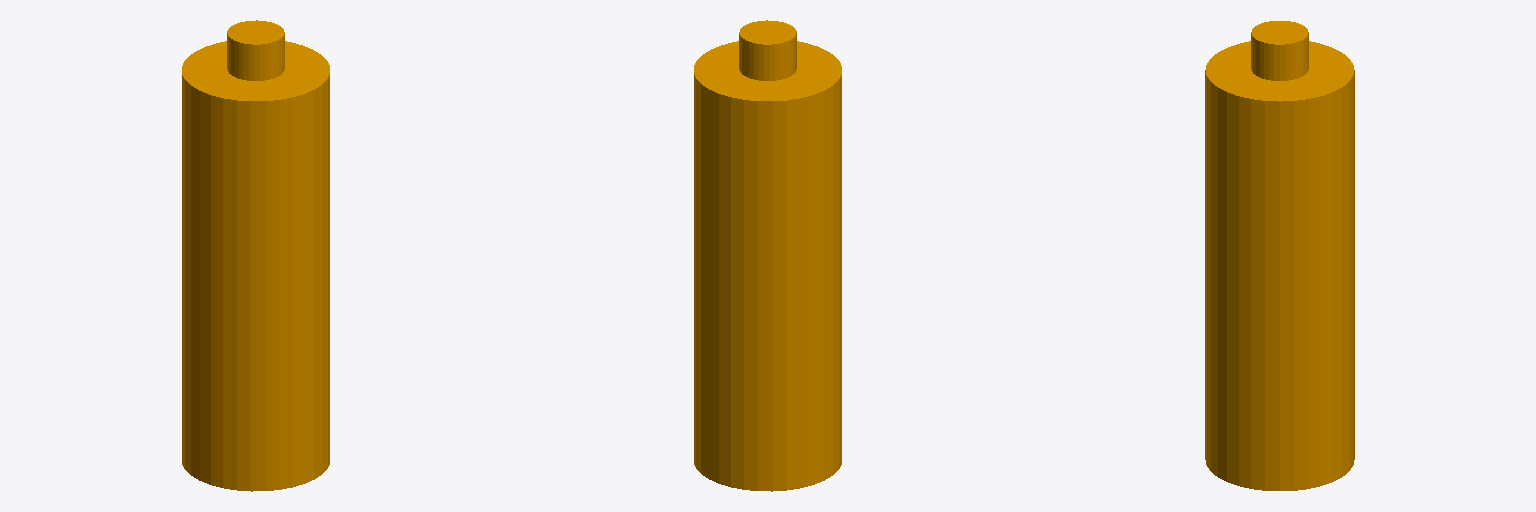
URDF robot description (cylinder):
<?xml version="1.0" ?>
<robot name="cylinder">
  <link name="baseLink">
    <contact>
      <lateral_friction value="1.0"/>
      <rolling_friction value="0.0"/>
      <contact_cfm value="0.0"/>
      <contact_erp value="1.0"/>
    </contact>
    <inertial>
      <origin rpy="0 0 0" xyz="0 0 0.1025"/>
       <mass value="0.380"/>
       <inertia ixx="1" ixy="0" ixz="0" iyy="1" iyz="0" izz="1"/>
    </inertial>
    <visual>
      <origin rpy="0 0 0" xyz="0 0 0"/>
      <geometry>
				<mesh filename="cylinder.obj" scale="1.0 1.0 1.0"/>
      </geometry>
        <material name="Green">
          <texture filename="texture.png" />
       </material>
    </visual>
    <collision>
      <origin rpy="0 0 0" xyz="0 0 0"/>
      <geometry>
		<mesh filename="cylinder.obj" scale="1.0 1.0 1.0"/>
      </geometry>
    </collision>
  </link>
</robot>

--- What the picture shows (computed from the rendered views, not written in the file) ---
3 views of the same robot in one strip: view 1: azimuth 30°, elevation 25°; view 2: azimuth 150°, elevation 25°; view 3: azimuth 270°, elevation 25° (orthographic).
Model cylinder with 1 links and 0 joints (none), rooted at baseLink, posed every joint at zero.
Links seen in each view (by area): view 1: baseLink; view 2: baseLink; view 3: baseLink.
Link boxes in pixels (bbox=[...]): baseLink: bbox=[182, 20, 329, 491]; baseLink: bbox=[694, 20, 841, 491]; baseLink: bbox=[1205, 21, 1354, 490].
Bounding box of the posed robot: 0.065 × 0.065 × 0.2055 m (x, y, z).
Meshes: 1 distinct files referenced, 1 mesh visuals loaded (1 OBJ).